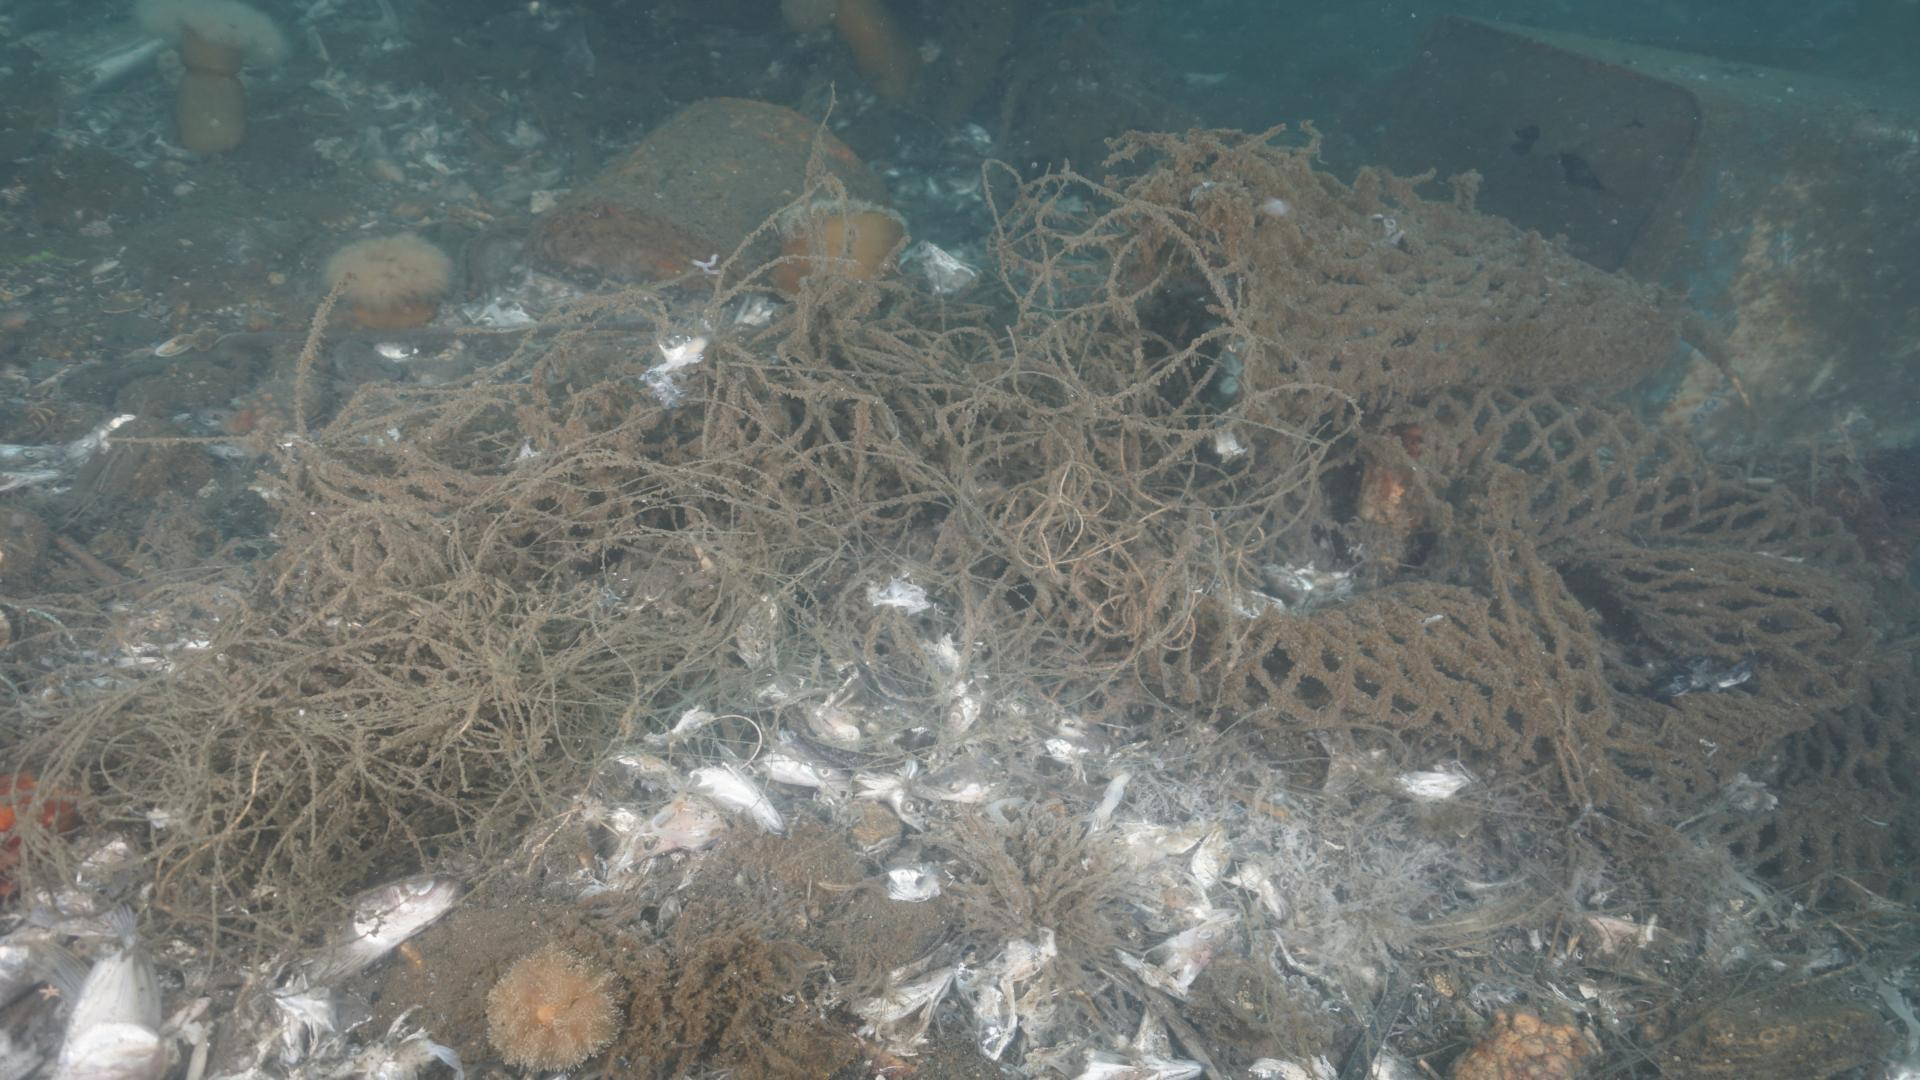fish net: (1164, 108, 1920, 963)
